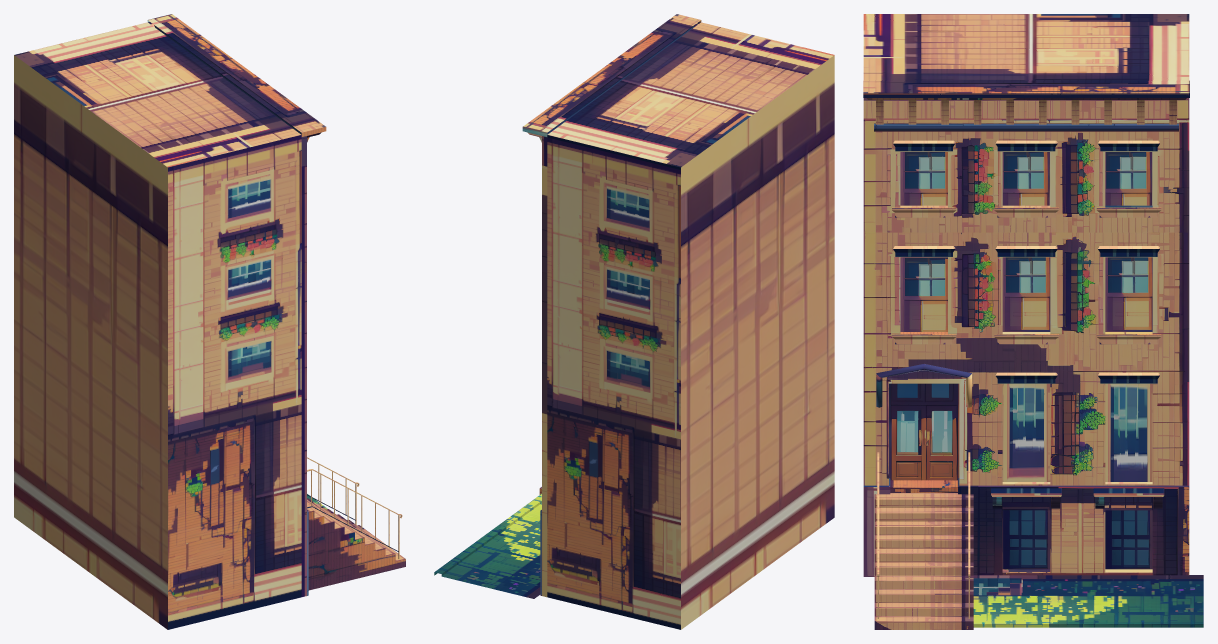
File: PixelTallBuilding1232.glb
3 renders of one model, left to right at view 1: azimuth 30°, elevation 25°; view 2: azimuth 150°, elevation 25°; view 3: azimuth 270°, elevation 25°, orthographic. The views are drawn at different scales.
Visible parts, largest first — view 1: L_Build_1; view 2: L_Build_1; view 3: L_Build_1.
Boxes of the visible parts, left/top/right/bottom form: L_Build_1: left=14, top=14, right=405, bottom=629; L_Build_1: left=434, top=14, right=834, bottom=629; L_Build_1: left=863, top=14, right=1203, bottom=629.
Size of the model in its own units: 6.4 by 12.08 by 7.32.
Materials: 1 (1 with a texture image).
